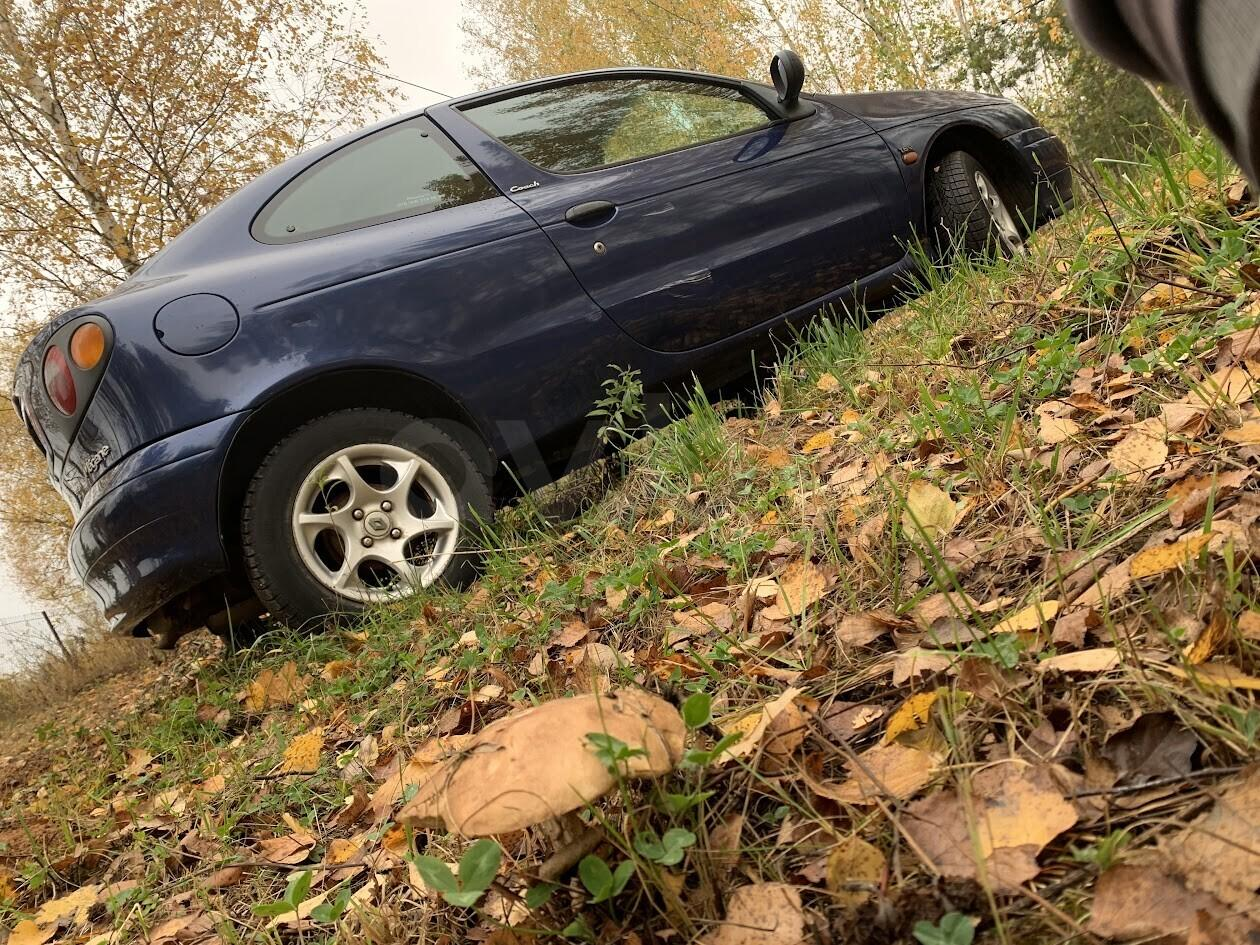Megane_1995-1999: (6, 52, 1114, 658)
